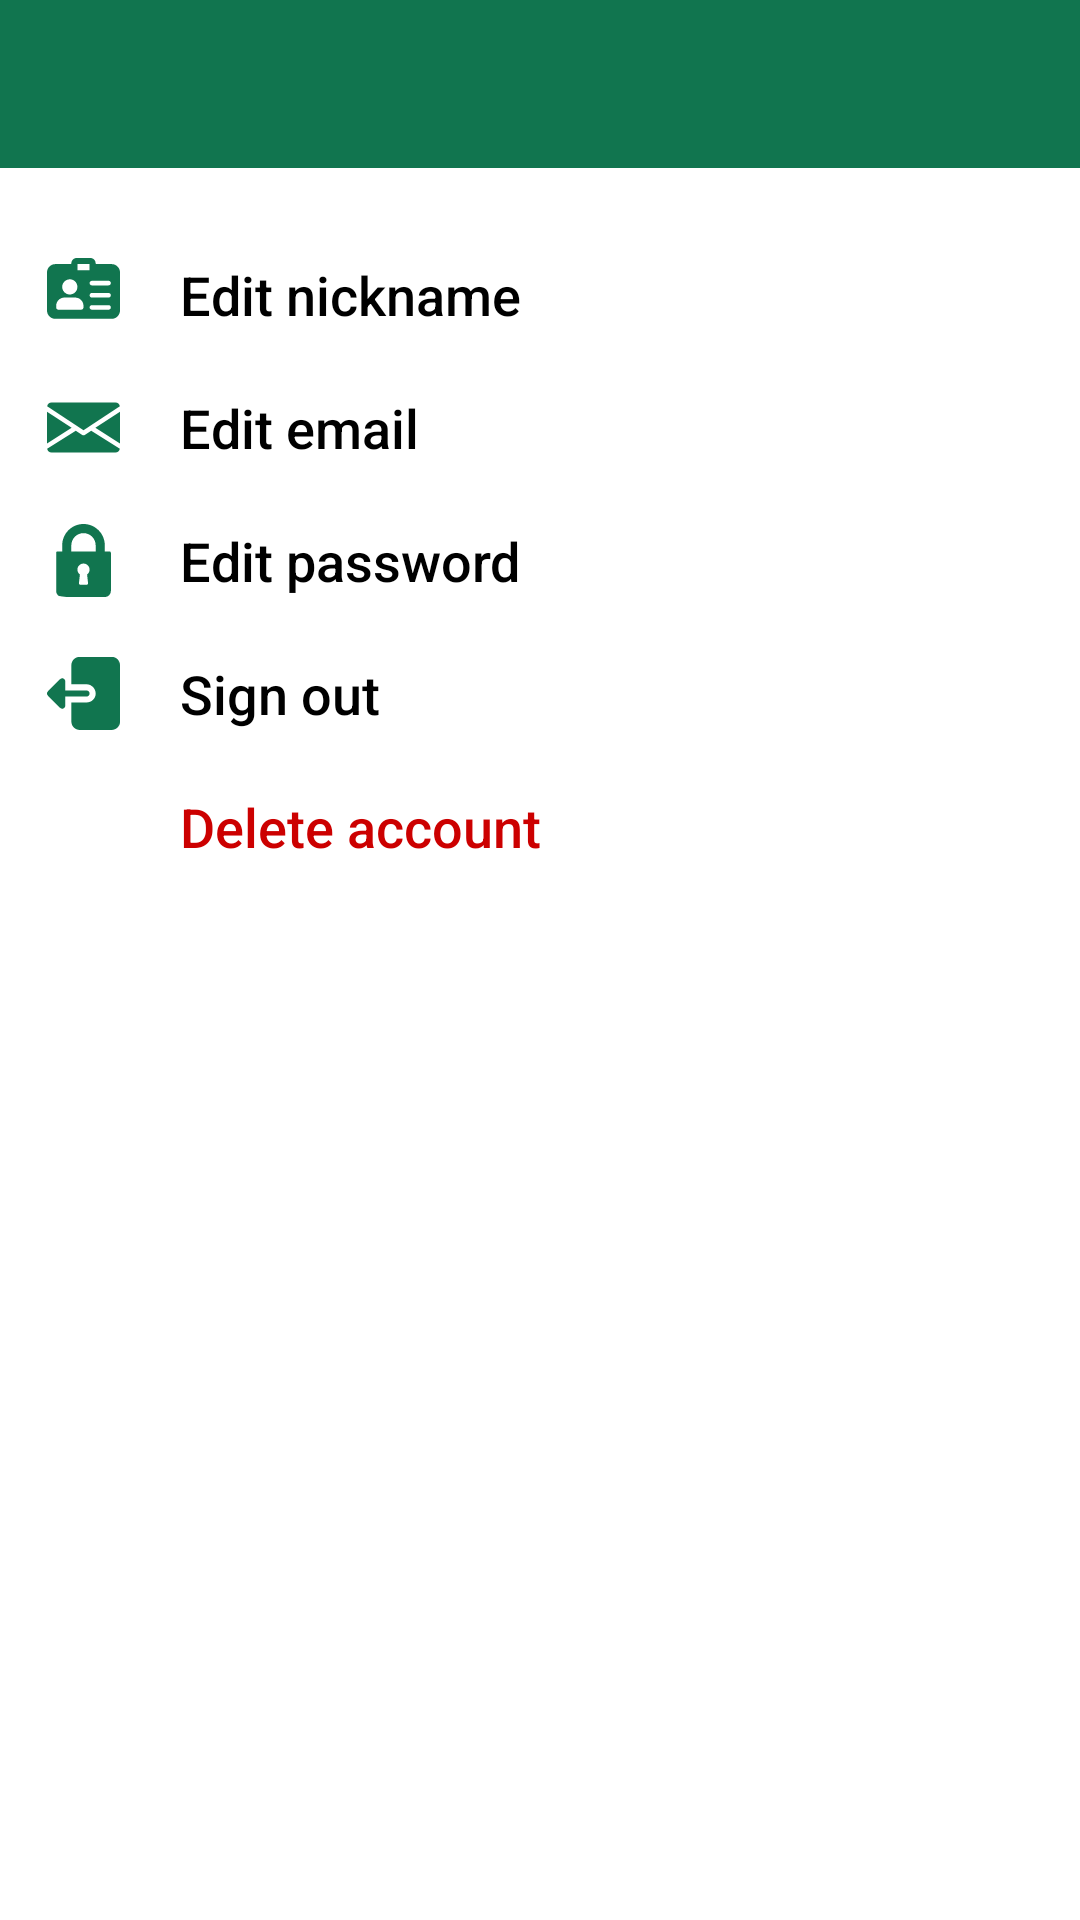

Screen size 1080*1920. Icon name, then its center in pixels as point (x, y):
email setting: point (83, 427)
nick name setting: point (83, 288)
password setting: point (83, 560)
